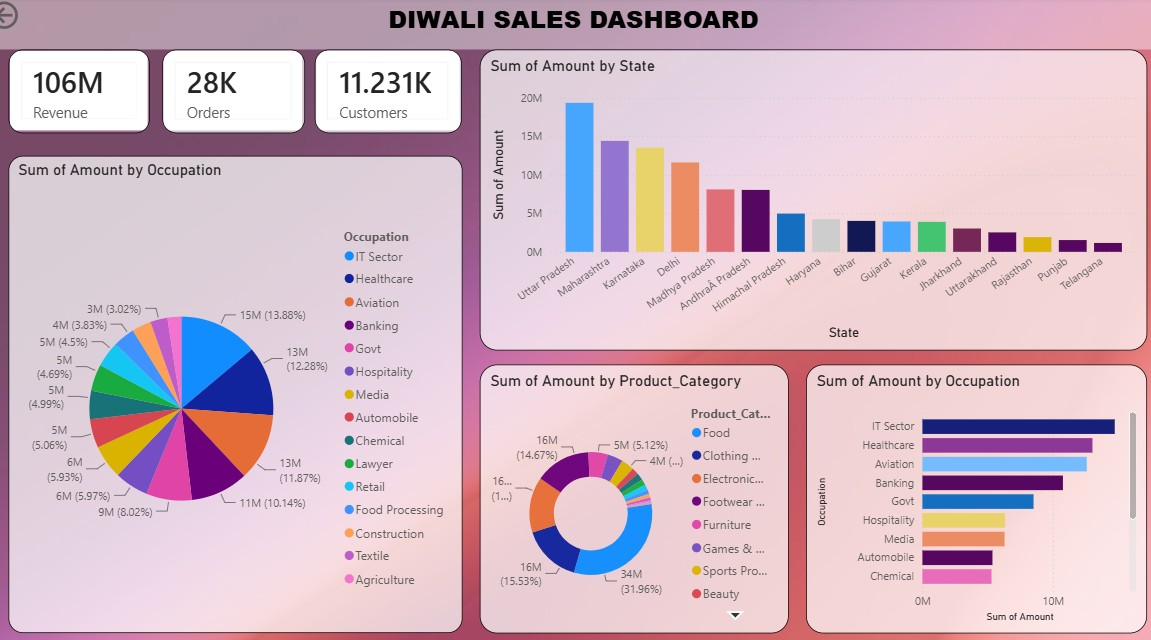

What the dashboard file says about the page in this screenshot:
{"tool":"powerbi","page":{"name":"Page 1","canvas":[1280,720],"ordinal":0},"visuals":[{"type":"textbox","box":[9.6,0,1270.7,57.6],"z":0},{"type":"columnChart","fields":{"Category":["diwali_sales sales_data.State"],"Y":["Sum(diwali_sales sales_data.Amount)"]},"box":[542,57.6,732.8,330.7],"z":1},{"type":"barChart","fields":{"Category":["diwali_sales sales_data.Occupation"],"Y":["Sum(diwali_sales sales_data.Amount)"]},"box":[900.2,403.4,374.6,295],"z":3},{"type":"donutChart","fields":{"Y":["Sum(diwali_sales sales_data.Amount)"],"Category":["diwali_sales sales_data.Product_Category"]},"box":[542,403.4,338.9,295],"z":4},{"type":"cardVisual","fields":{"Data":["Sum(diwali_sales sales_data.Amount)"]},"box":[24.7,57.6,155.1,91.9],"z":5},{"type":"cardVisual","fields":{"Data":["Sum(diwali_sales sales_data.Orders)"]},"box":[193.5,57.6,156.4,91.9],"z":6},{"type":"cardVisual","fields":{"Data":["CountNonNull(diwali_sales sales_data.User_ID)"]},"box":[360.9,57.6,161.9,91.9],"z":7},{"type":"actionButton","box":[0,0,100,40],"z":9},{"type":"pieChart","fields":{"Category":["diwali_sales sales_data.Occupation","diwali_sales sales_data.Product_Category"],"Y":["Sum(diwali_sales sales_data.Amount)"]},"box":[24.7,174.3,498.1,524.2],"z":10}]}

Visuals, with their boxes in screenshot pixels (x1, y1, x2, y2), scaled from the page's 1280x720 canvas onto the 1151x640 screenshot:
textbox: box(9, 0, 1150, 51)
columnChart - diwali_sales sales_data.State x Sum(diwali_sales sales_data.Amount): box(487, 51, 1146, 345)
barChart - diwali_sales sales_data.Occupation x Sum(diwali_sales sales_data.Amount): box(809, 359, 1146, 621)
donutChart - Sum(diwali_sales sales_data.Amount) x diwali_sales sales_data.Product_Category: box(487, 359, 792, 621)
cardVisual - Sum(diwali_sales sales_data.Amount): box(22, 51, 162, 133)
cardVisual - Sum(diwali_sales sales_data.Orders): box(174, 51, 315, 133)
cardVisual - CountNonNull(diwali_sales sales_data.User_ID): box(325, 51, 470, 133)
actionButton: box(0, 0, 90, 36)
pieChart - diwali_sales sales_data.Occupation x diwali_sales sales_data.Product_Category: box(22, 155, 470, 621)
